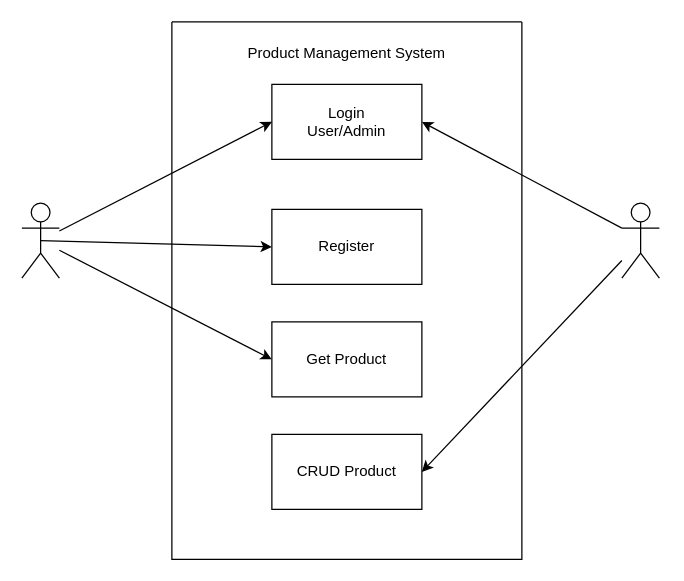
The diagram is 684 pixels wide and 581 high, and some of its shapes have lost their labels. Each missing label, with the centre of its shape:
"Admin" belongs at [640,240].
"User" belongs at [40,240].
